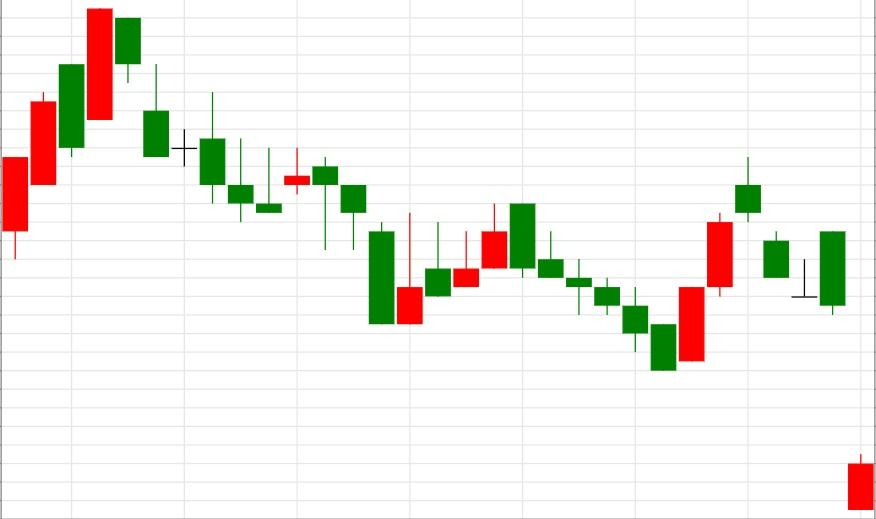bearish_engulfing_fall: (368, 203, 536, 325)
